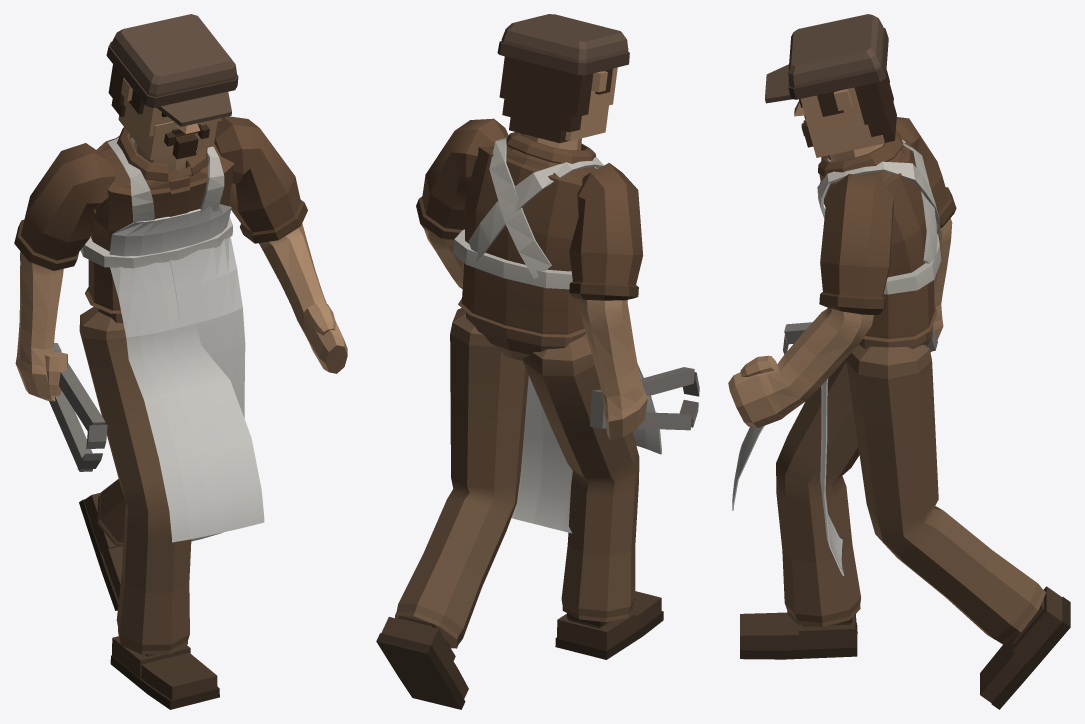
The model's file is street-vendor-139de3__walk5.glb.
3 renders of one model, left to right at view 1: azimuth 30°, elevation 25°; view 2: azimuth 150°, elevation 25°; view 3: azimuth 270°, elevation 25°, orthographic.
Visible parts, largest first — view 1: street-vendor-139de3__walk5; view 2: street-vendor-139de3__walk5; view 3: street-vendor-139de3__walk5.
Part boxes in pixels (x1,y1,x2,y2): street-vendor-139de3__walk5: (14, 14, 347, 709); street-vendor-139de3__walk5: (376, 14, 699, 709); street-vendor-139de3__walk5: (728, 14, 1070, 709).
Size of the model in its own units: 0.7029 by 1.72 by 0.8278.
